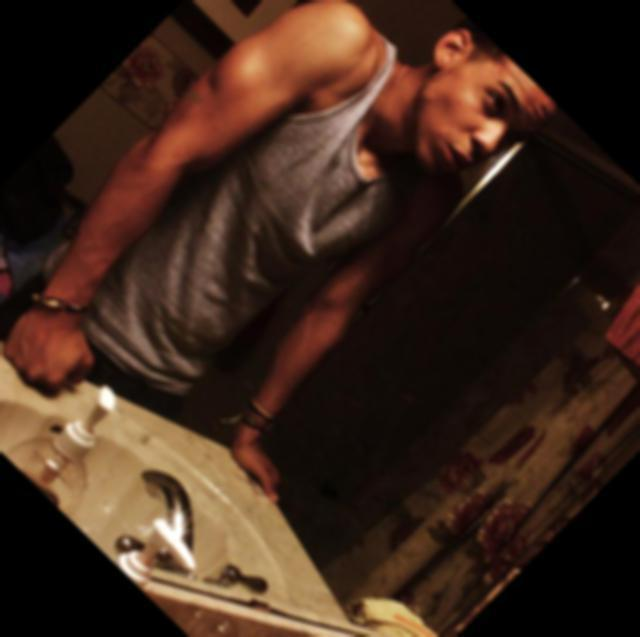Lavamanos: (0, 261, 344, 637), (254, 634, 389, 637)
